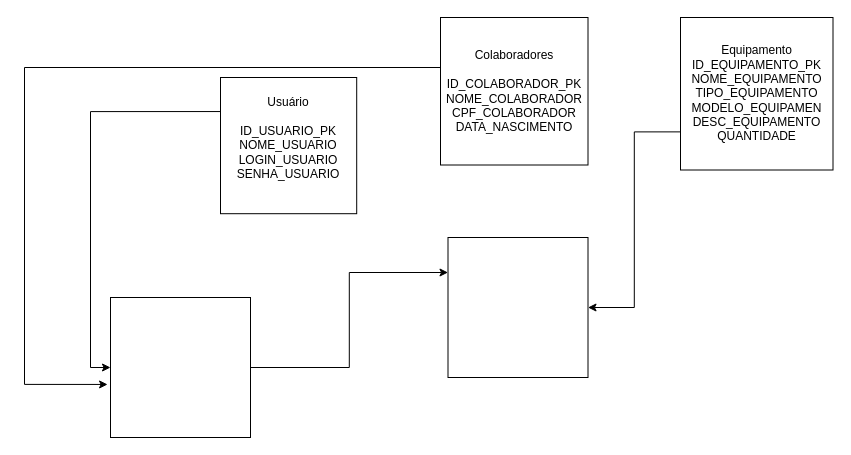
The diagram is 851 pixels wide and 455 high, and some of its shapes have lost their labels. The shapes that lost their labels are listed below. From the top down, each one's centre as x and y in pixels, then its label:
At [517,307]: "itens id_itesm_emprestimo PK ID_EQUIPAMENTO_FK Id_Equipamento FK quantidade".
At [180,367]: "Empréstimo ID_EMPRÉSTIMO_PK ID_USUARIO_FK ID_COLABORADOR_FK DATA".
